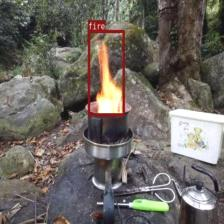fire: (88, 30, 124, 116)
